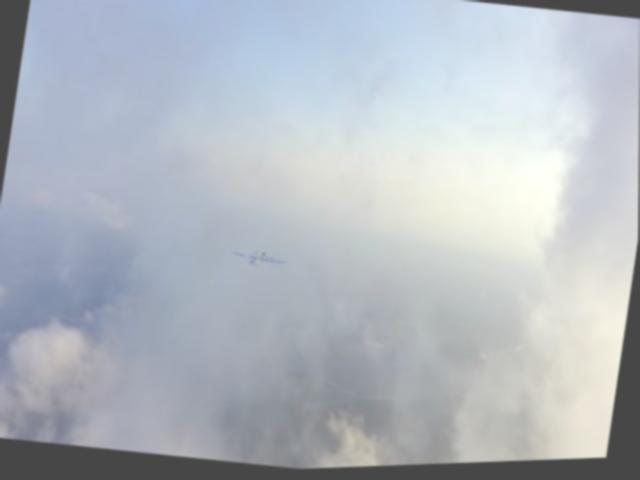uav: (227, 238, 288, 277)
